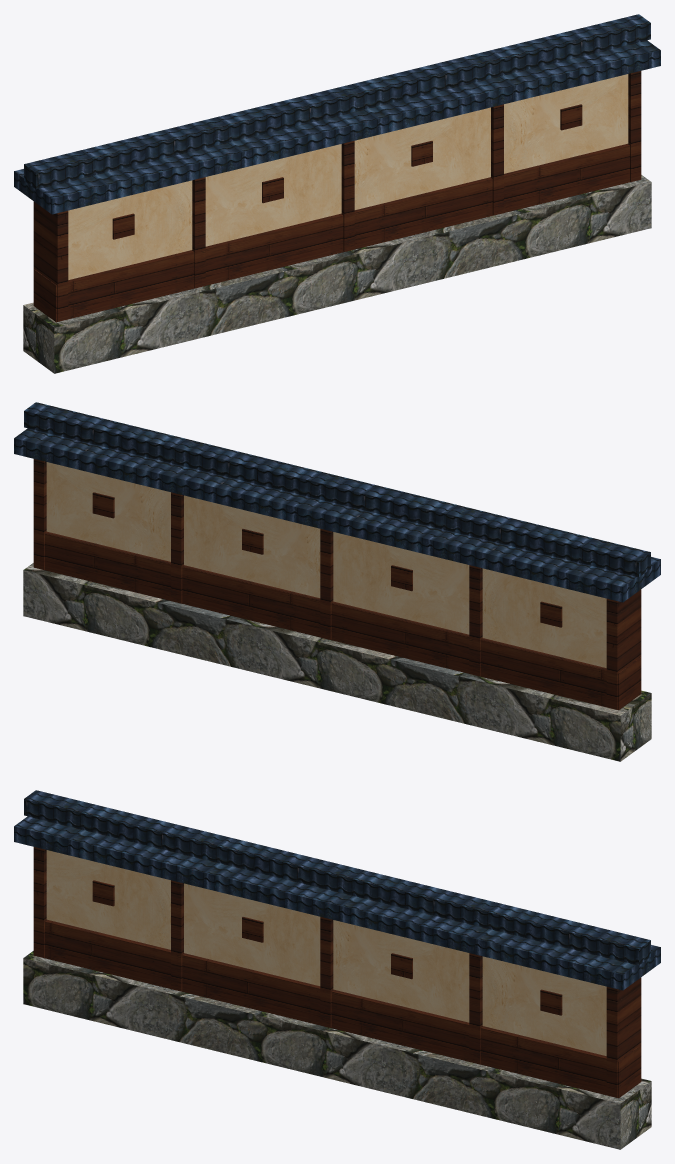
The model's file is castle_hei_wall.glb.
3 views of the same model, one above another, from view 1: azimuth 30°, elevation 25°; view 2: azimuth 150°, elevation 25°; view 3: azimuth 330°, elevation 25° (orthographic).
Visible parts, largest first — view 1: hei_wall_kawara, hei_wall_plaster, hei_wall_castle_stone, hei_wall_charred; view 2: hei_wall_kawara, hei_wall_plaster, hei_wall_castle_stone, hei_wall_charred; view 3: hei_wall_kawara, hei_wall_plaster, hei_wall_castle_stone, hei_wall_charred.
Boxes of the visible parts, x1,y1,x2,y2 form: hei_wall_kawara: (14, 14, 660, 214); hei_wall_plaster: (68, 74, 628, 279); hei_wall_castle_stone: (23, 175, 651, 373); hei_wall_charred: (33, 71, 641, 322); hei_wall_kawara: (14, 402, 660, 602); hei_wall_plaster: (46, 462, 606, 667); hei_wall_castle_stone: (23, 563, 651, 761); hei_wall_charred: (33, 459, 641, 710); hei_wall_kawara: (14, 790, 660, 990); hei_wall_plaster: (46, 850, 606, 1055); hei_wall_castle_stone: (23, 951, 651, 1149); hei_wall_charred: (33, 847, 641, 1098).
Bounding box in the file's own units: 8.24 × 2.51 × 0.88.
Materials: 4 (4 with a texture image).
